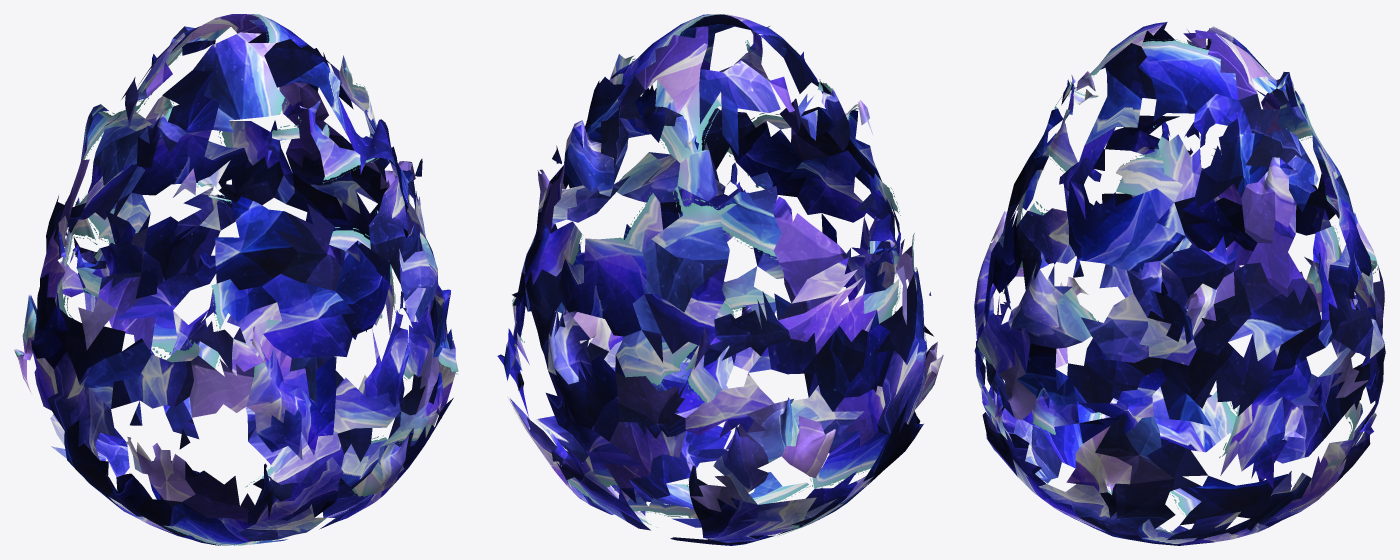
Rendered from black_ice_egg_5k.fbx.
The picture shows the model from 3 angles, left to right: view 1: azimuth 30°, elevation 25°; view 2: azimuth 150°, elevation 25°; view 3: azimuth 270°, elevation 25°; orthographic projection.
Visible parts, largest first — view 1: black_ice_egg_decimated; view 2: black_ice_egg_decimated; view 3: black_ice_egg_decimated.
Part boxes in pixels (x1,y1,x2,y2): black_ice_egg_decimated: [14, 14, 458, 545]; black_ice_egg_decimated: [497, 14, 943, 545]; black_ice_egg_decimated: [974, 22, 1385, 545].
Size of the model in its own units: 1.44 by 1.91 by 1.41.
